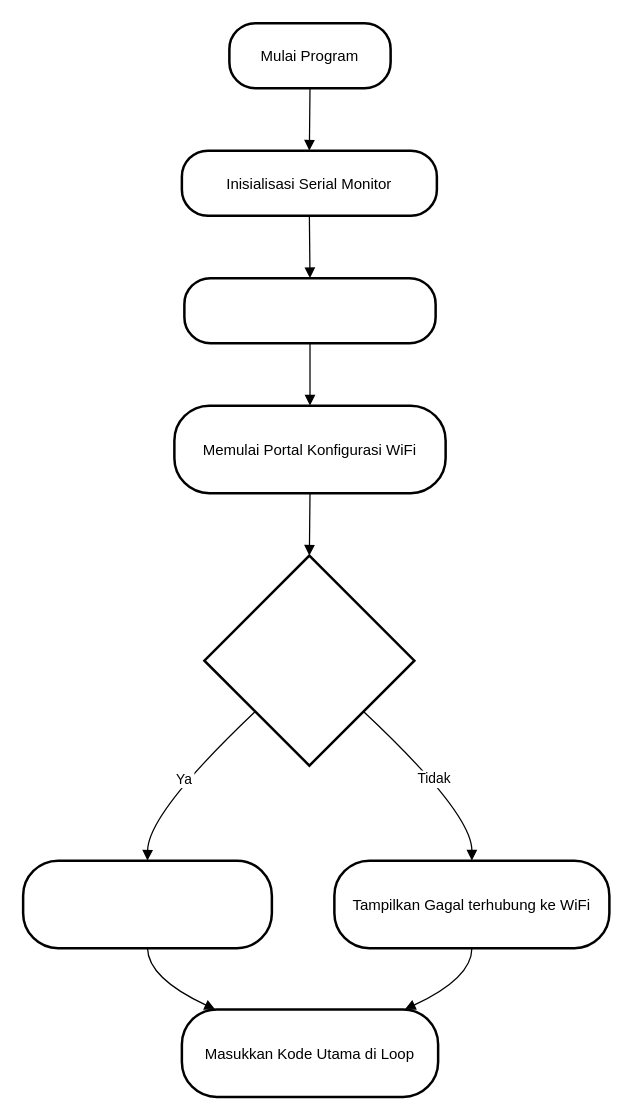
The diagram is 631 pixels wide and 1119 high, and some of its shapes have lost their labels. Each missing label, with the box of its shape:
Inisialisasi WiFi Manager: (182, 276, 436, 344)
Tampilkan Terhubung ke WiFi!: (21, 859, 272, 949)
WiFi Terhubung?: (202, 554, 415, 766)
